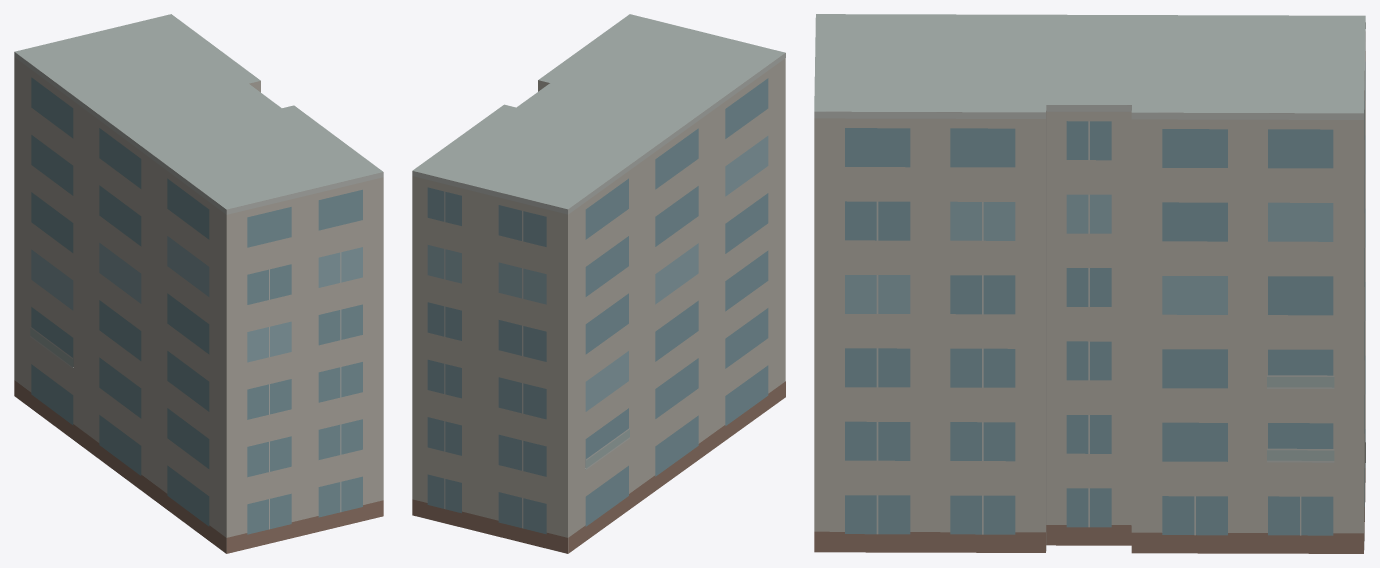
File: survey-upis-32920675.glb
The picture shows the model from 3 angles, left to right: view 1: azimuth 30°, elevation 25°; view 2: azimuth 150°, elevation 25°; view 3: azimuth 270°, elevation 25°; orthographic projection. The views are drawn at different scales.
Parts seen in each view (by area): view 1: survey-upis-32920675.tmp; view 2: survey-upis-32920675.tmp; view 3: survey-upis-32920675.tmp.
Boxes of the visible parts, left/top/right/bottom form: survey-upis-32920675.tmp: left=14, top=14, right=383, bottom=553; survey-upis-32920675.tmp: left=412, top=14, right=785, bottom=553; survey-upis-32920675.tmp: left=814, top=14, right=1365, bottom=553.
Bounding box in the file's own units: 7.77 × 16 × 18.17.
